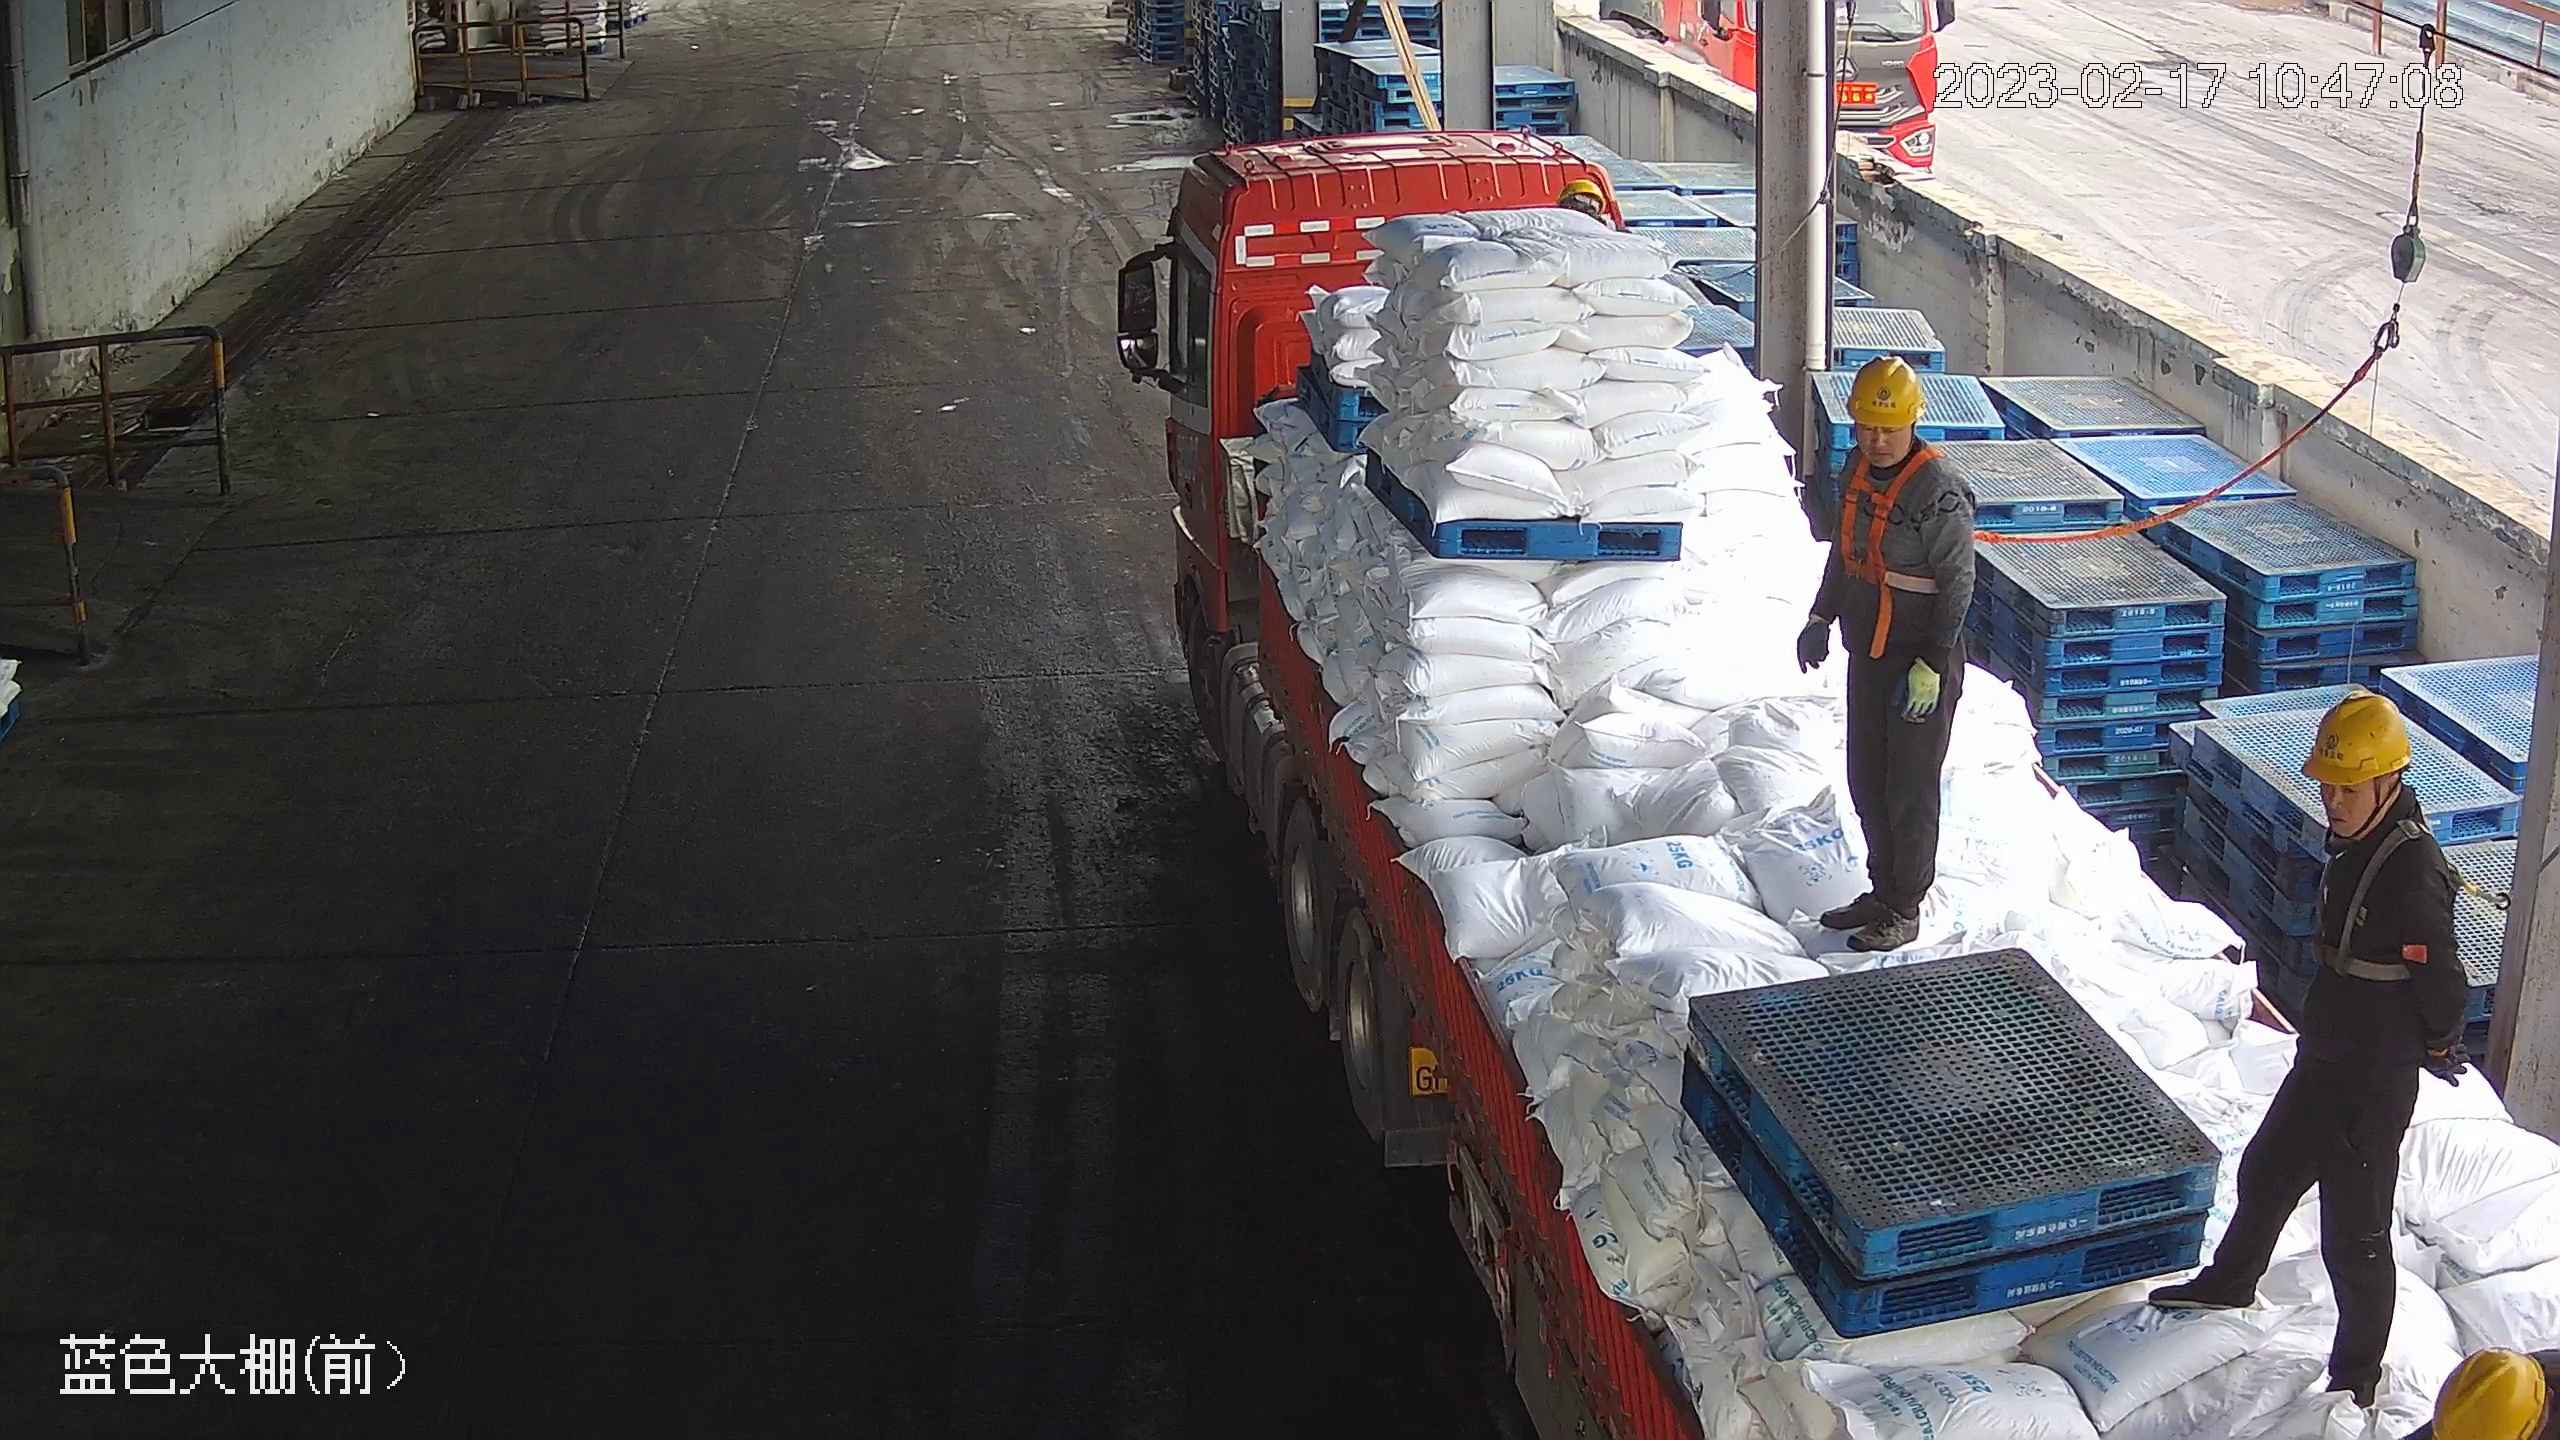belt: (2295, 820, 2485, 984), (1837, 443, 1995, 599)
head: (2298, 689, 2460, 910), (1832, 353, 1976, 520)
helmet: (2298, 689, 2413, 788), (1845, 353, 1928, 429), (1552, 179, 1607, 214)
people: (2147, 689, 2474, 1408), (1797, 354, 1978, 951)
truck: (1163, 127, 2560, 1440)
